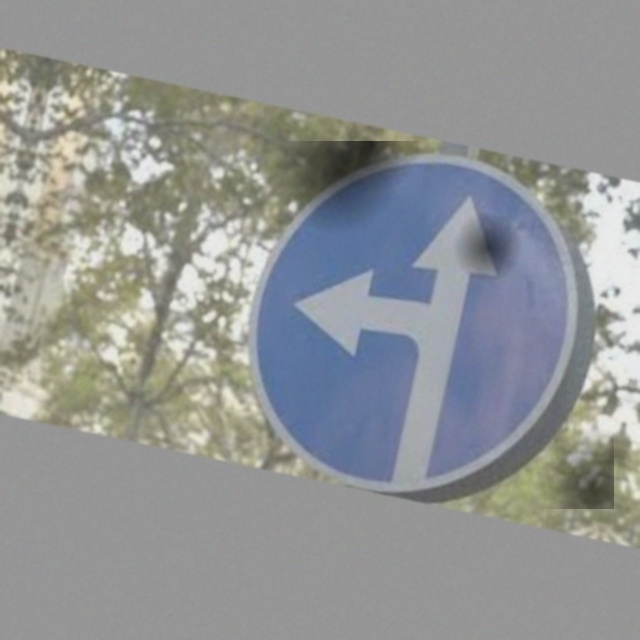Compulsory_Ahead_or_Turn_Left: (230, 141, 614, 509)
